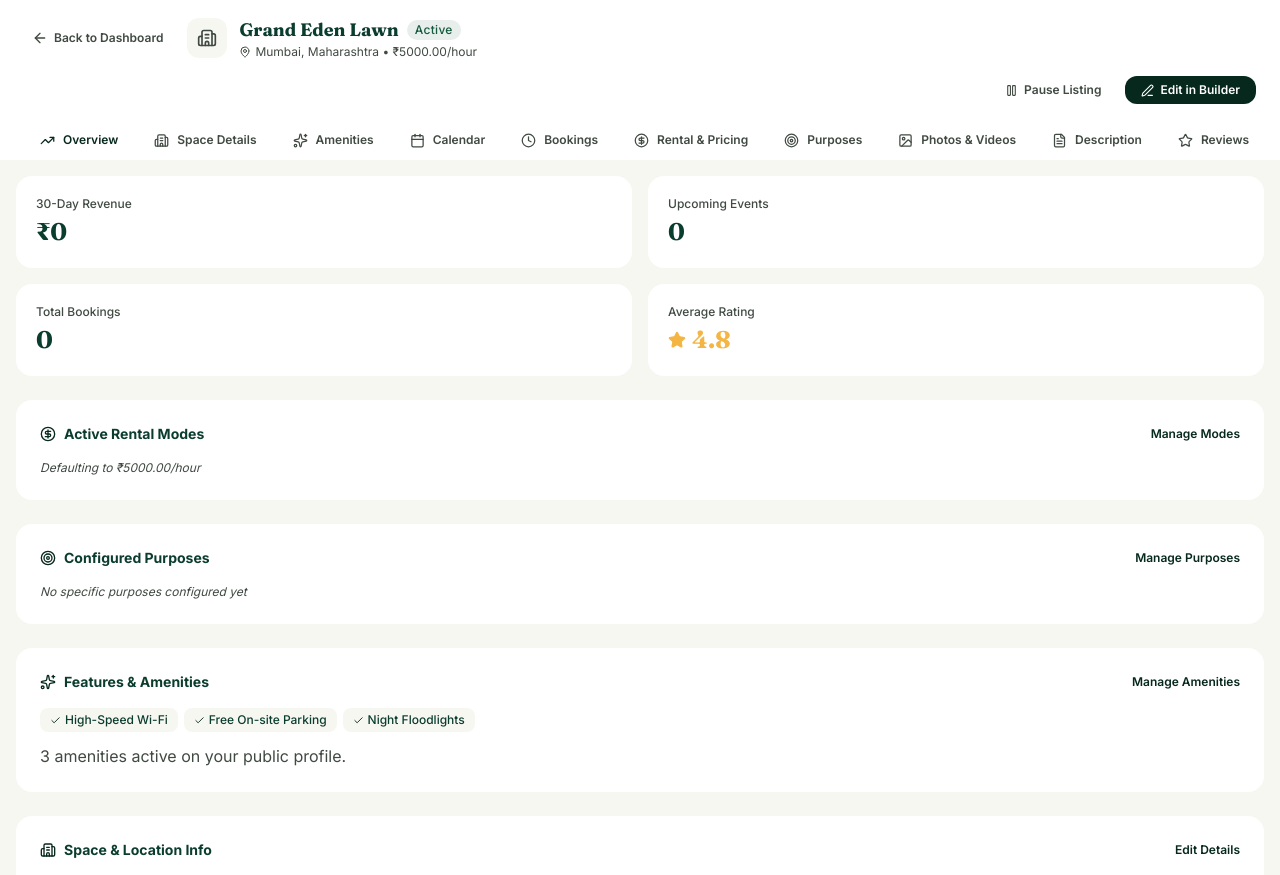
Test case: VenueWorkspace - Space Details and Amenities Editing › clicking Manage Amenities from Overview jumps directly to Amenities tab
Click the button "Manage Amenities": coordinates (1186, 682) [1132,674,1240,690]
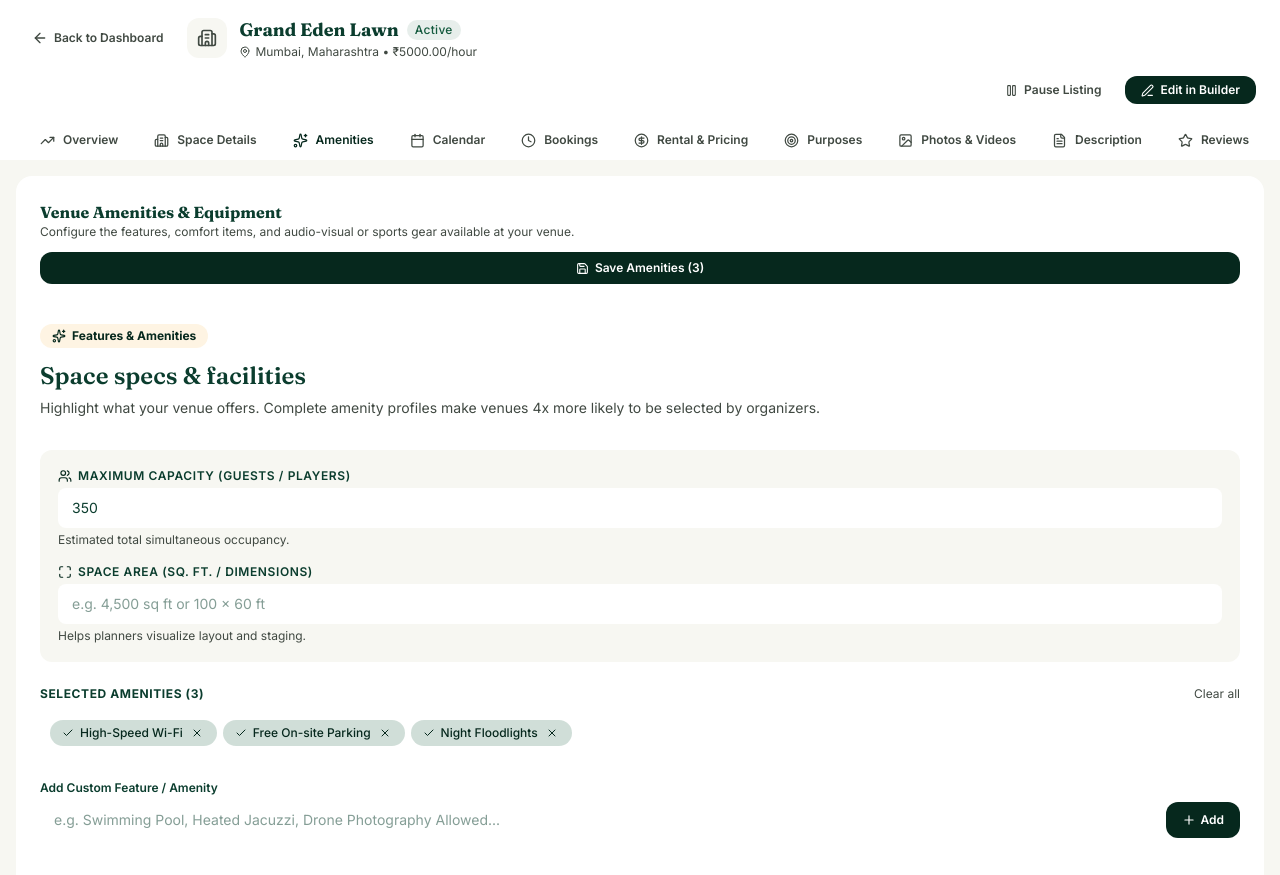
expect the heading "Venue Amenities & Equipment" is shown: met, box [40,202,282,222]
